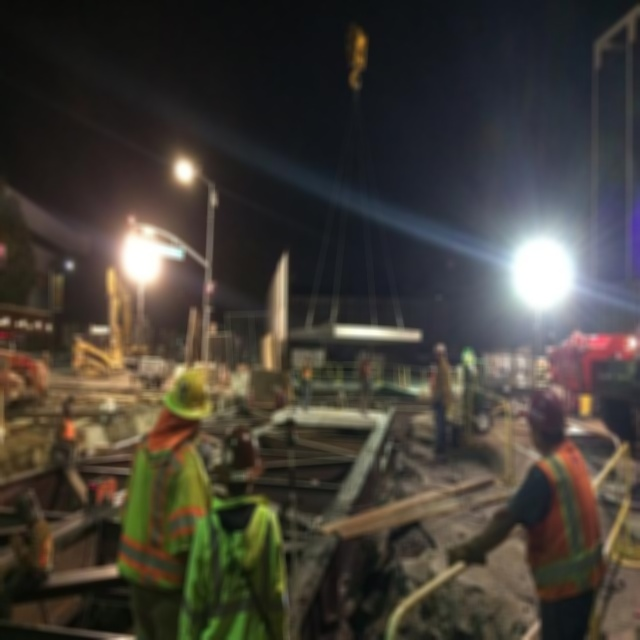Con_Casco: (213, 424, 266, 497), (161, 370, 211, 438), (525, 385, 567, 451)
Con_Chaleco: (519, 451, 609, 601), (117, 440, 201, 595), (197, 509, 286, 640)
